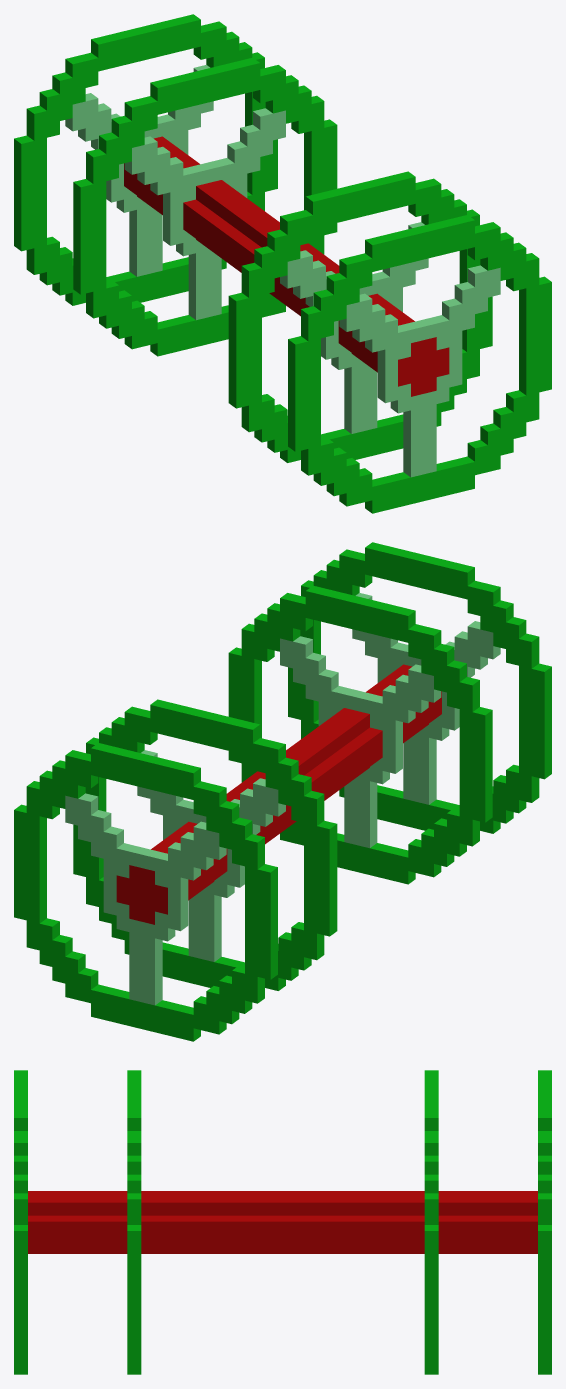
File: GripBlock.obj
The picture shows the model from 3 angles, top to bottom: view 1: azimuth 30°, elevation 25°; view 2: azimuth 150°, elevation 25°; view 3: azimuth 270°, elevation 25°; orthographic projection. The views are drawn at different scales.
Bounding box in the file's own units: 20 × 20 × 38.
1 material, 1 textured.
